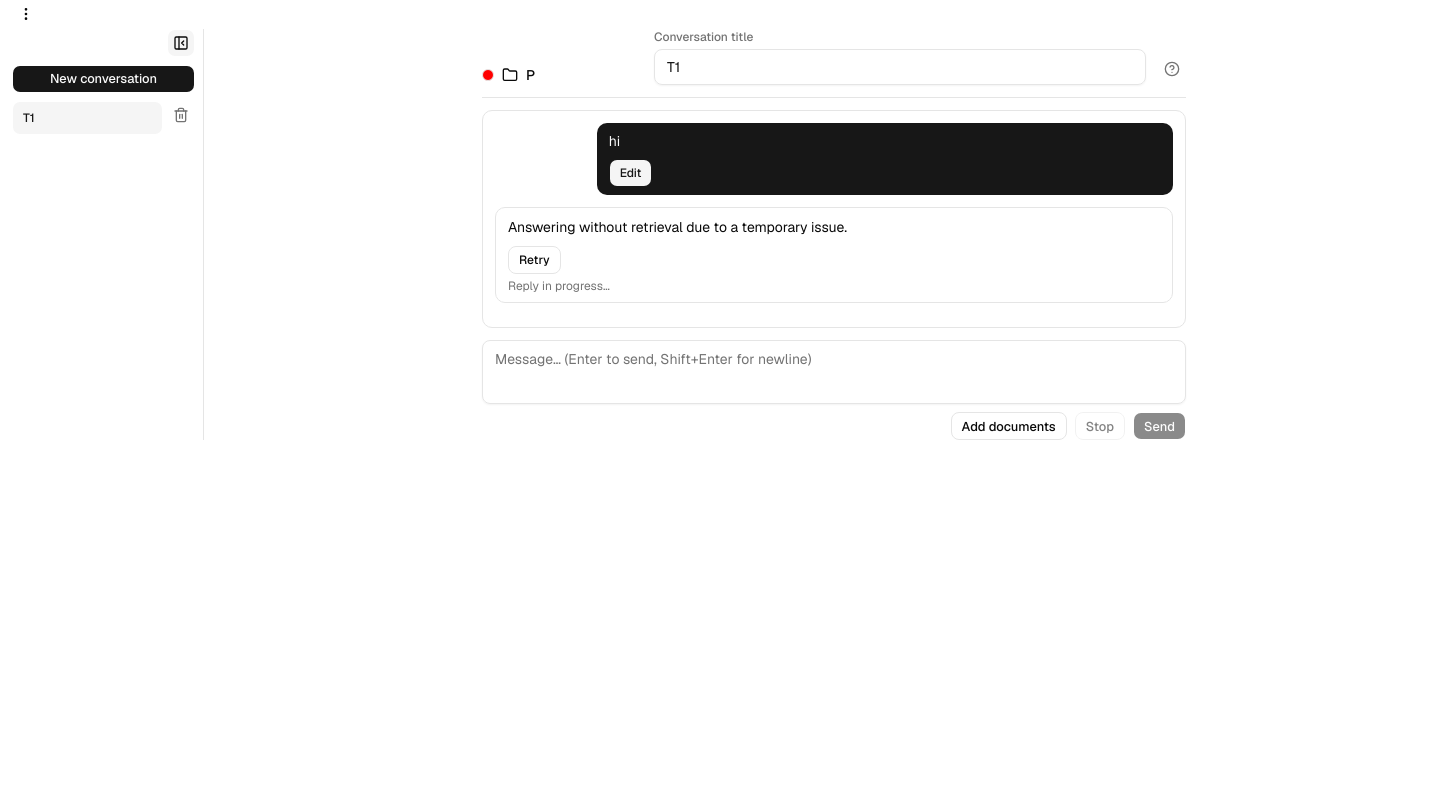
Scenario: ChatPage › shows accumulated flags in runtime toggles when P8 is selected
This screenshot has width=1452, height=789.
Click the button "T1": (88, 118) [12,101,163,135]
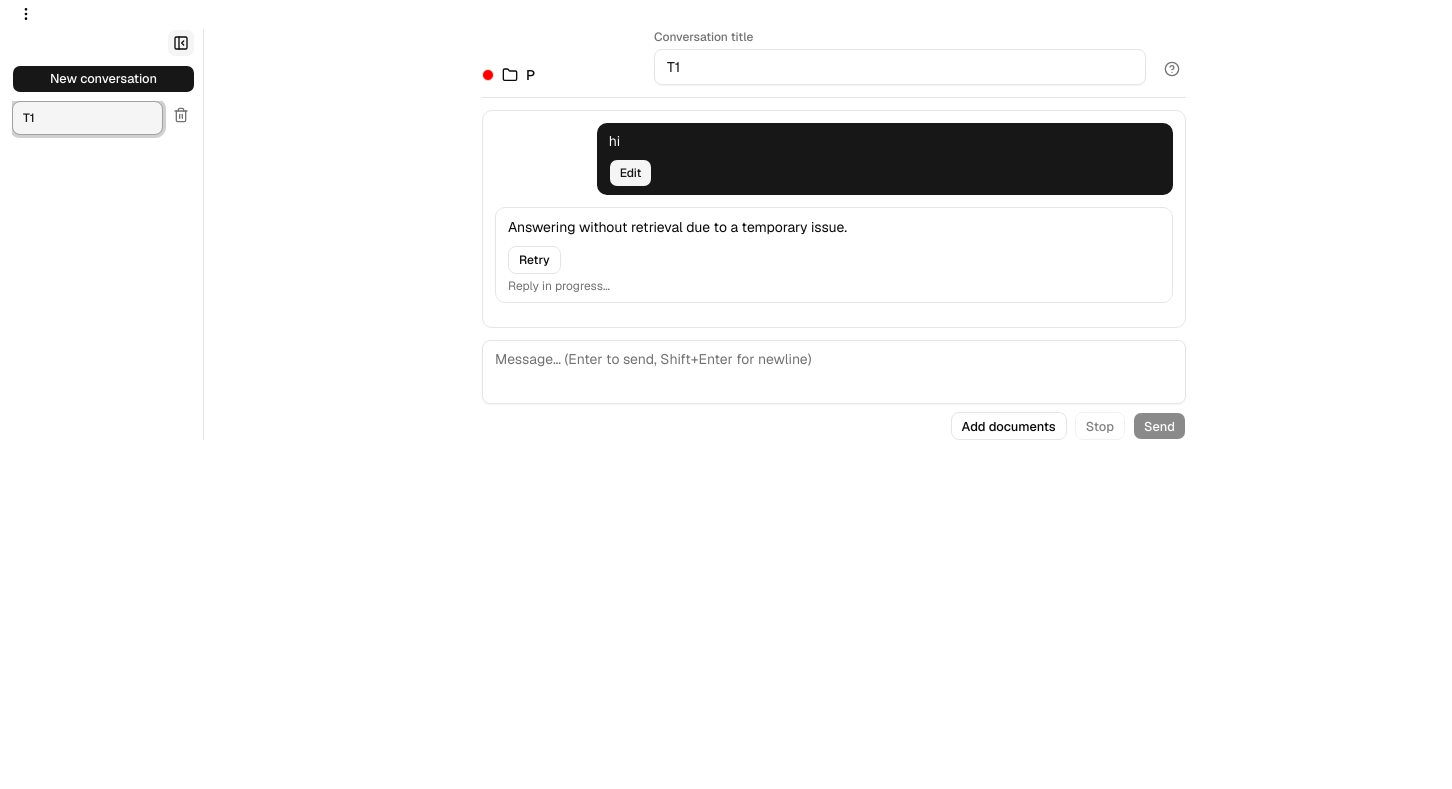
Click the button with test id "chat-config-trigger": (26, 14) [12,0,40,28]
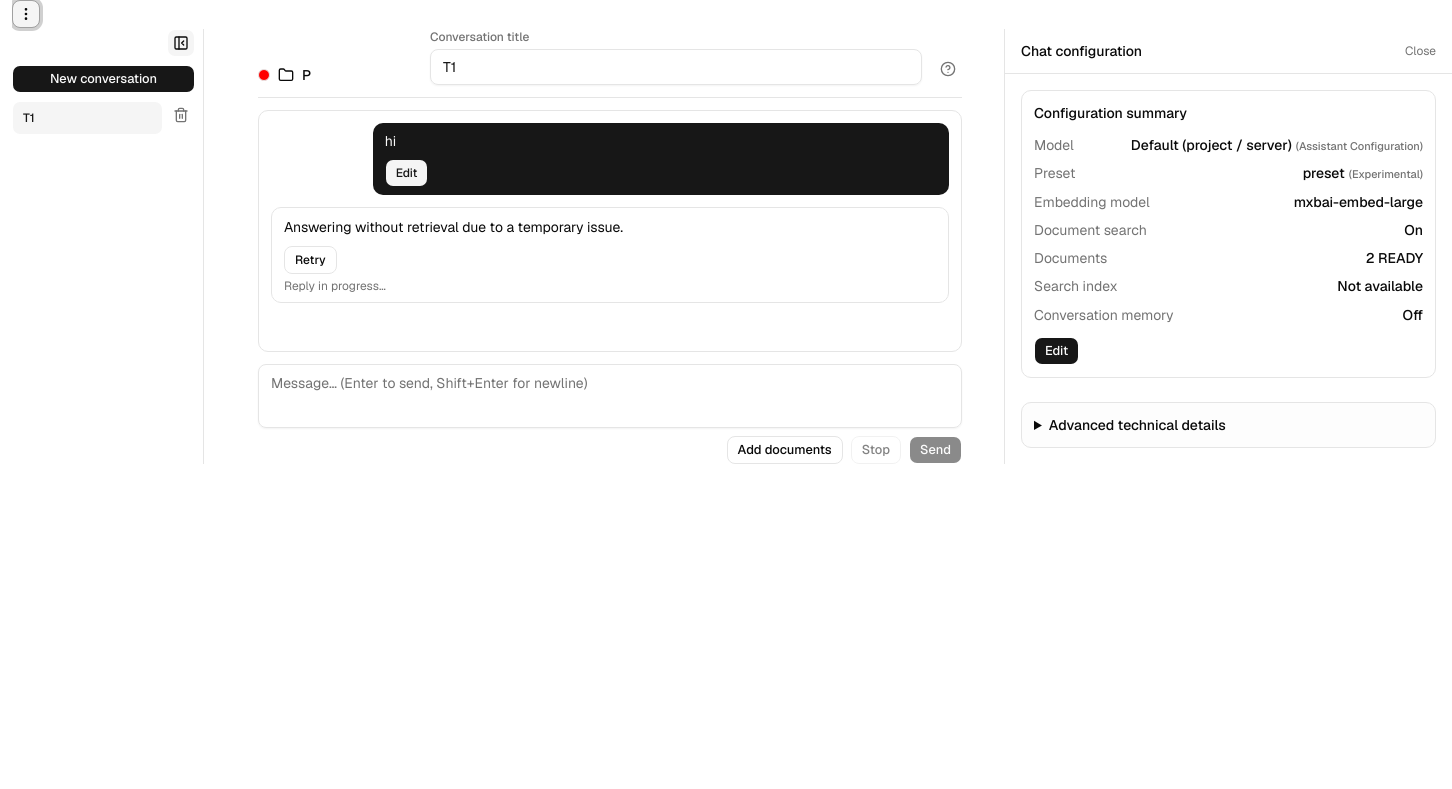
Expected: the element with test id "chat-configuration-side-panel" is shown, [1004,29,1451,464]
Click the button with test id "chat-config-edit-button": (1057, 351) [1034,337,1079,365]
(page scrolled)
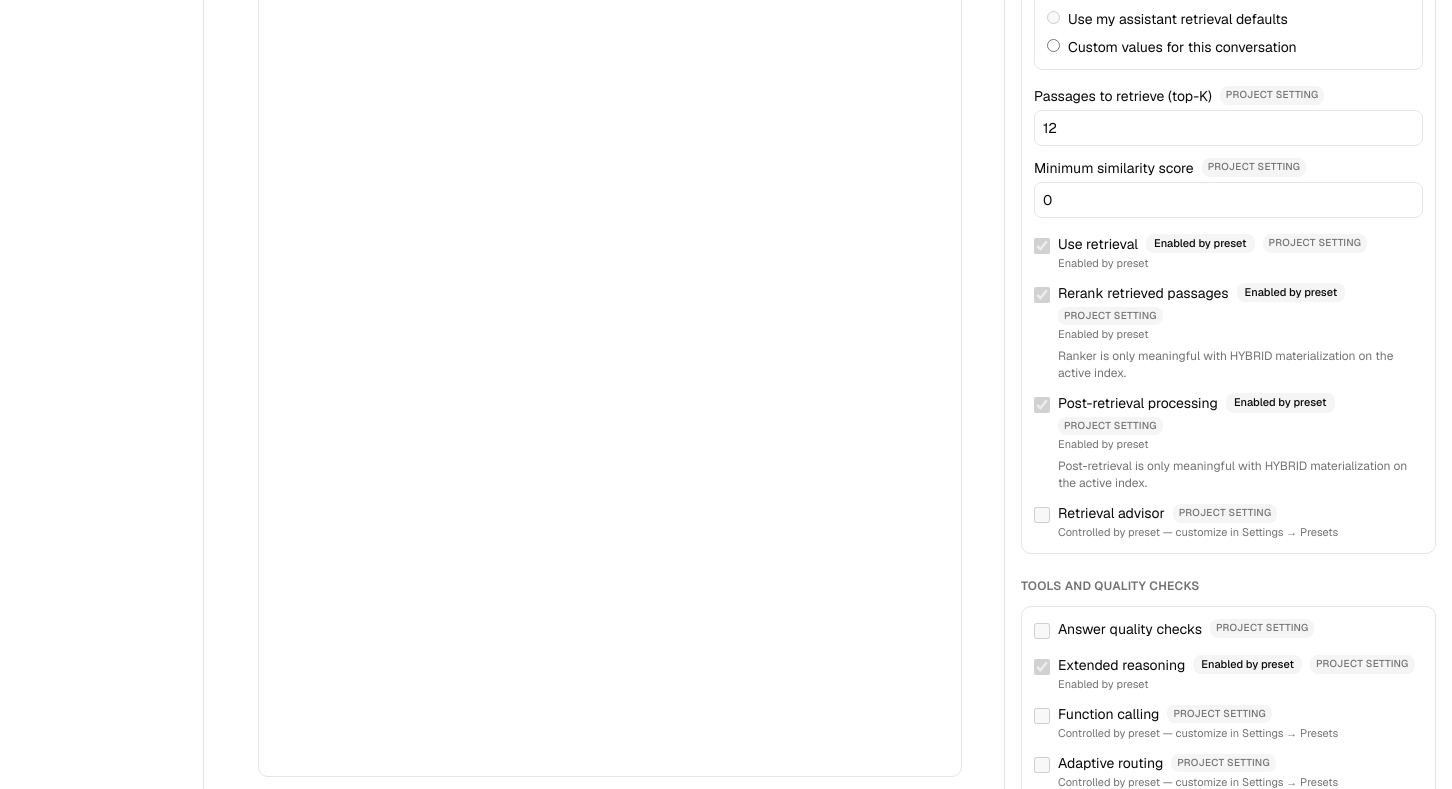
Expected: the checkbox labelled "Use retrieval Enabled by preset Project setting" is checked, [1034,238,1050,254]
Expected: the checkbox labelled "Rerank retrieved passages Enabled by preset Project setting" is checked, [1034,287,1050,303]
Expected: the checkbox labelled "Post-retrieval processing Enabled by preset Project setting" is checked, [1034,397,1050,413]
